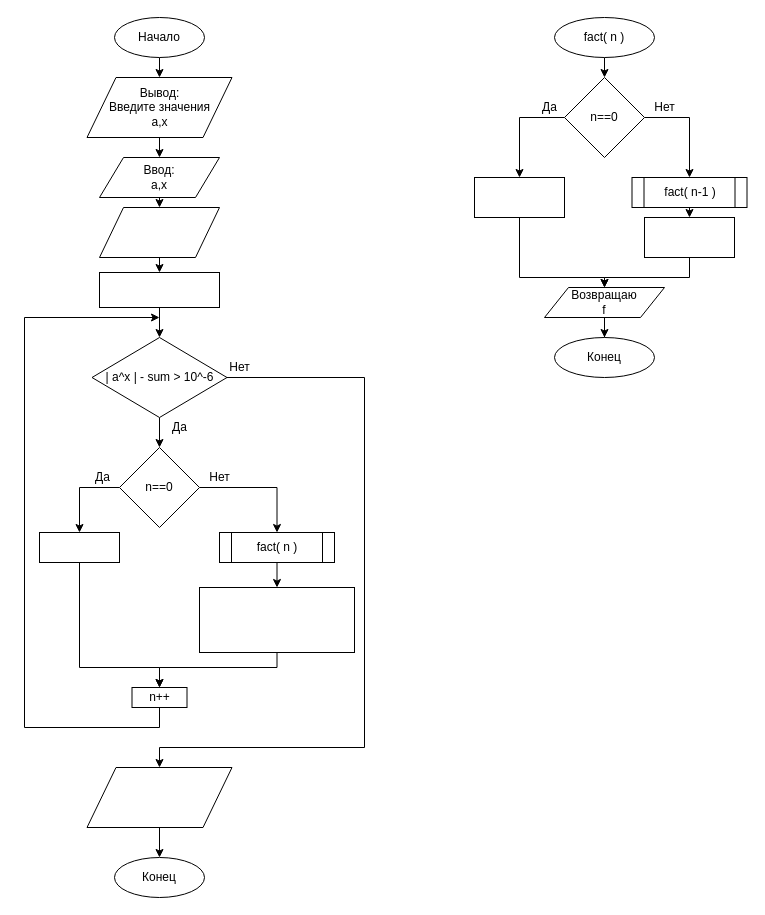
Some shapes in this 765 by 915 pixel diagram are drawn without their labels. Each missing label, with the centre of its shape:
"f=1" goes at point 519,197.
"f=n*fact(n-1)" goes at point 689,237.
"n=0 sum=0" goes at point 159,290.
"sum = sum + +[x * ln(a) ]^n / fact(n)" goes at point 276,619.
"sum=1" goes at point 79,547.
"Вывод: sum, n" goes at point 159,797.
"Вывод: Ожидайте ответа..." goes at point 159,232.
